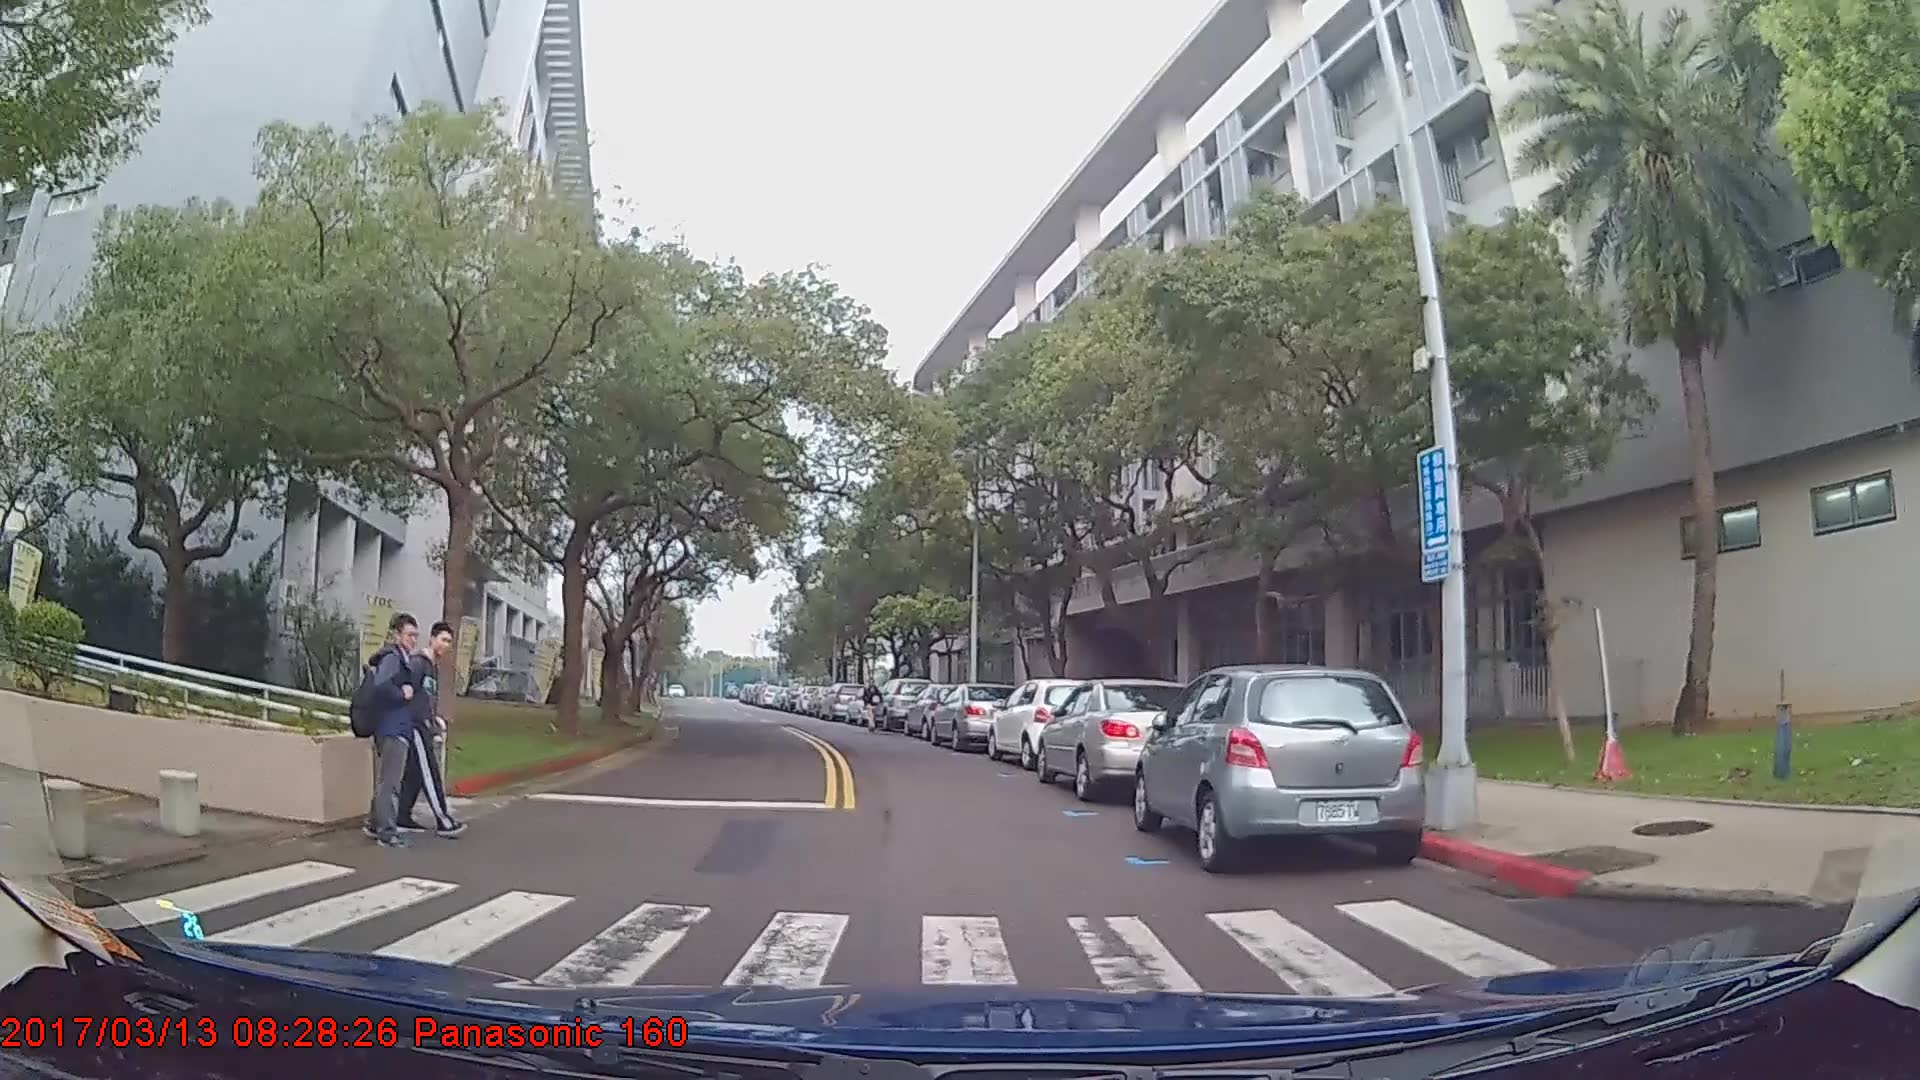pedestrian: (335, 617, 428, 854), (383, 624, 475, 844), (863, 677, 886, 736)
vehicle: (1134, 660, 1428, 874), (1034, 677, 1214, 801), (988, 678, 1104, 770), (929, 679, 1023, 750), (905, 679, 979, 739), (868, 675, 936, 730), (821, 682, 872, 721)
